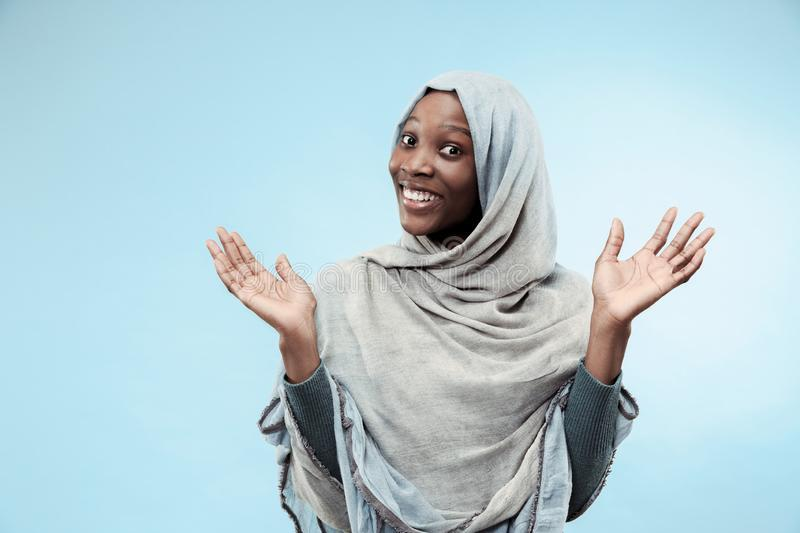No Mask: (372, 78, 562, 320)
